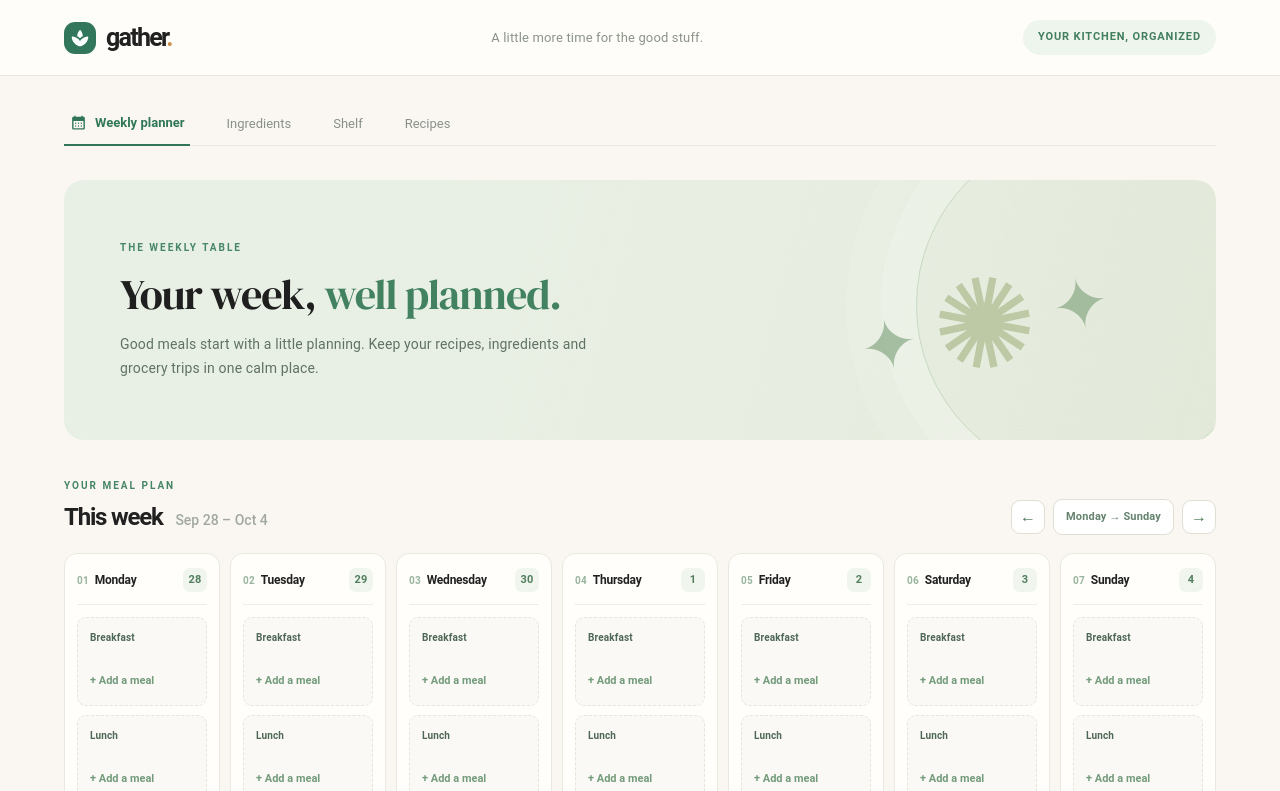
Test: weekly meal planner › shows a helpful empty state when no recipes have been saved
This screenshot has width=1280, height=791.
Click the button "Recipes" at (428, 124), box left=399, top=102, right=456, bottom=146
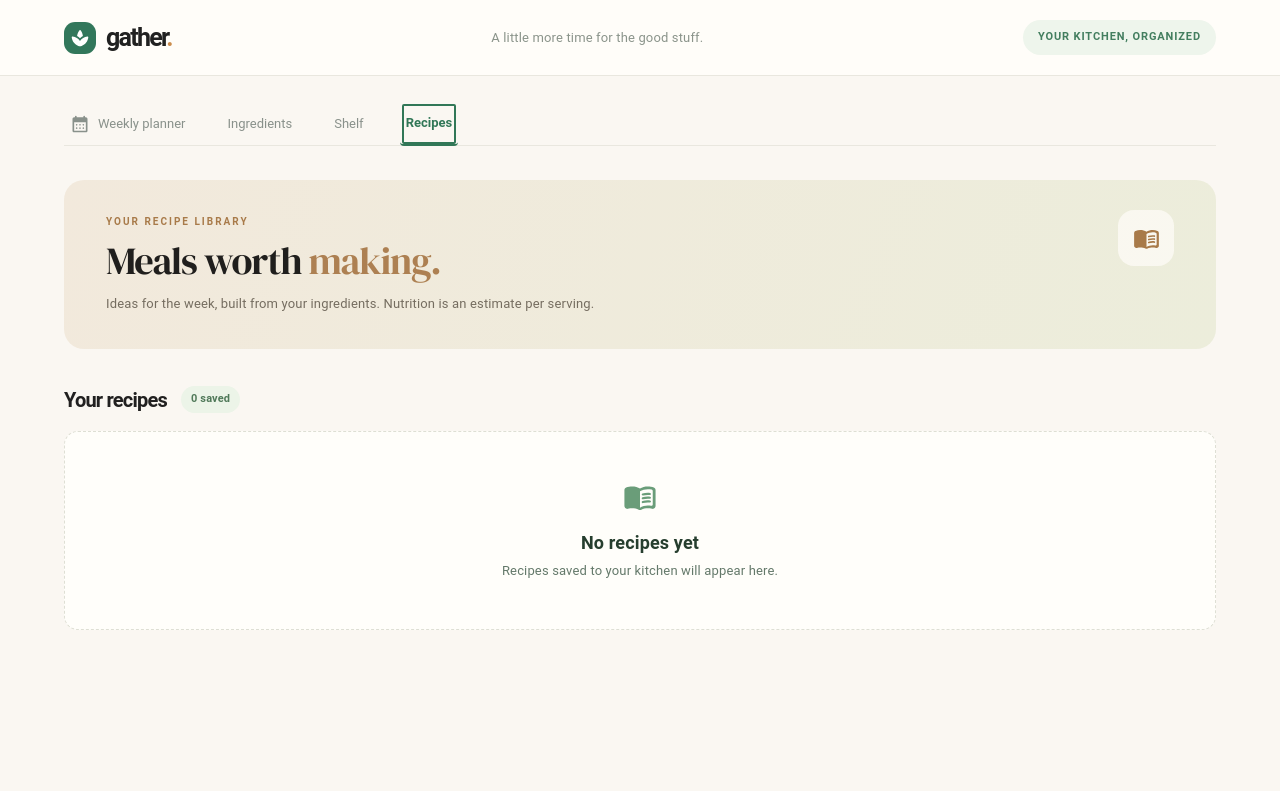
Expected: the heading "No recipes yet" is shown, left=581, top=532, right=699, bottom=552
